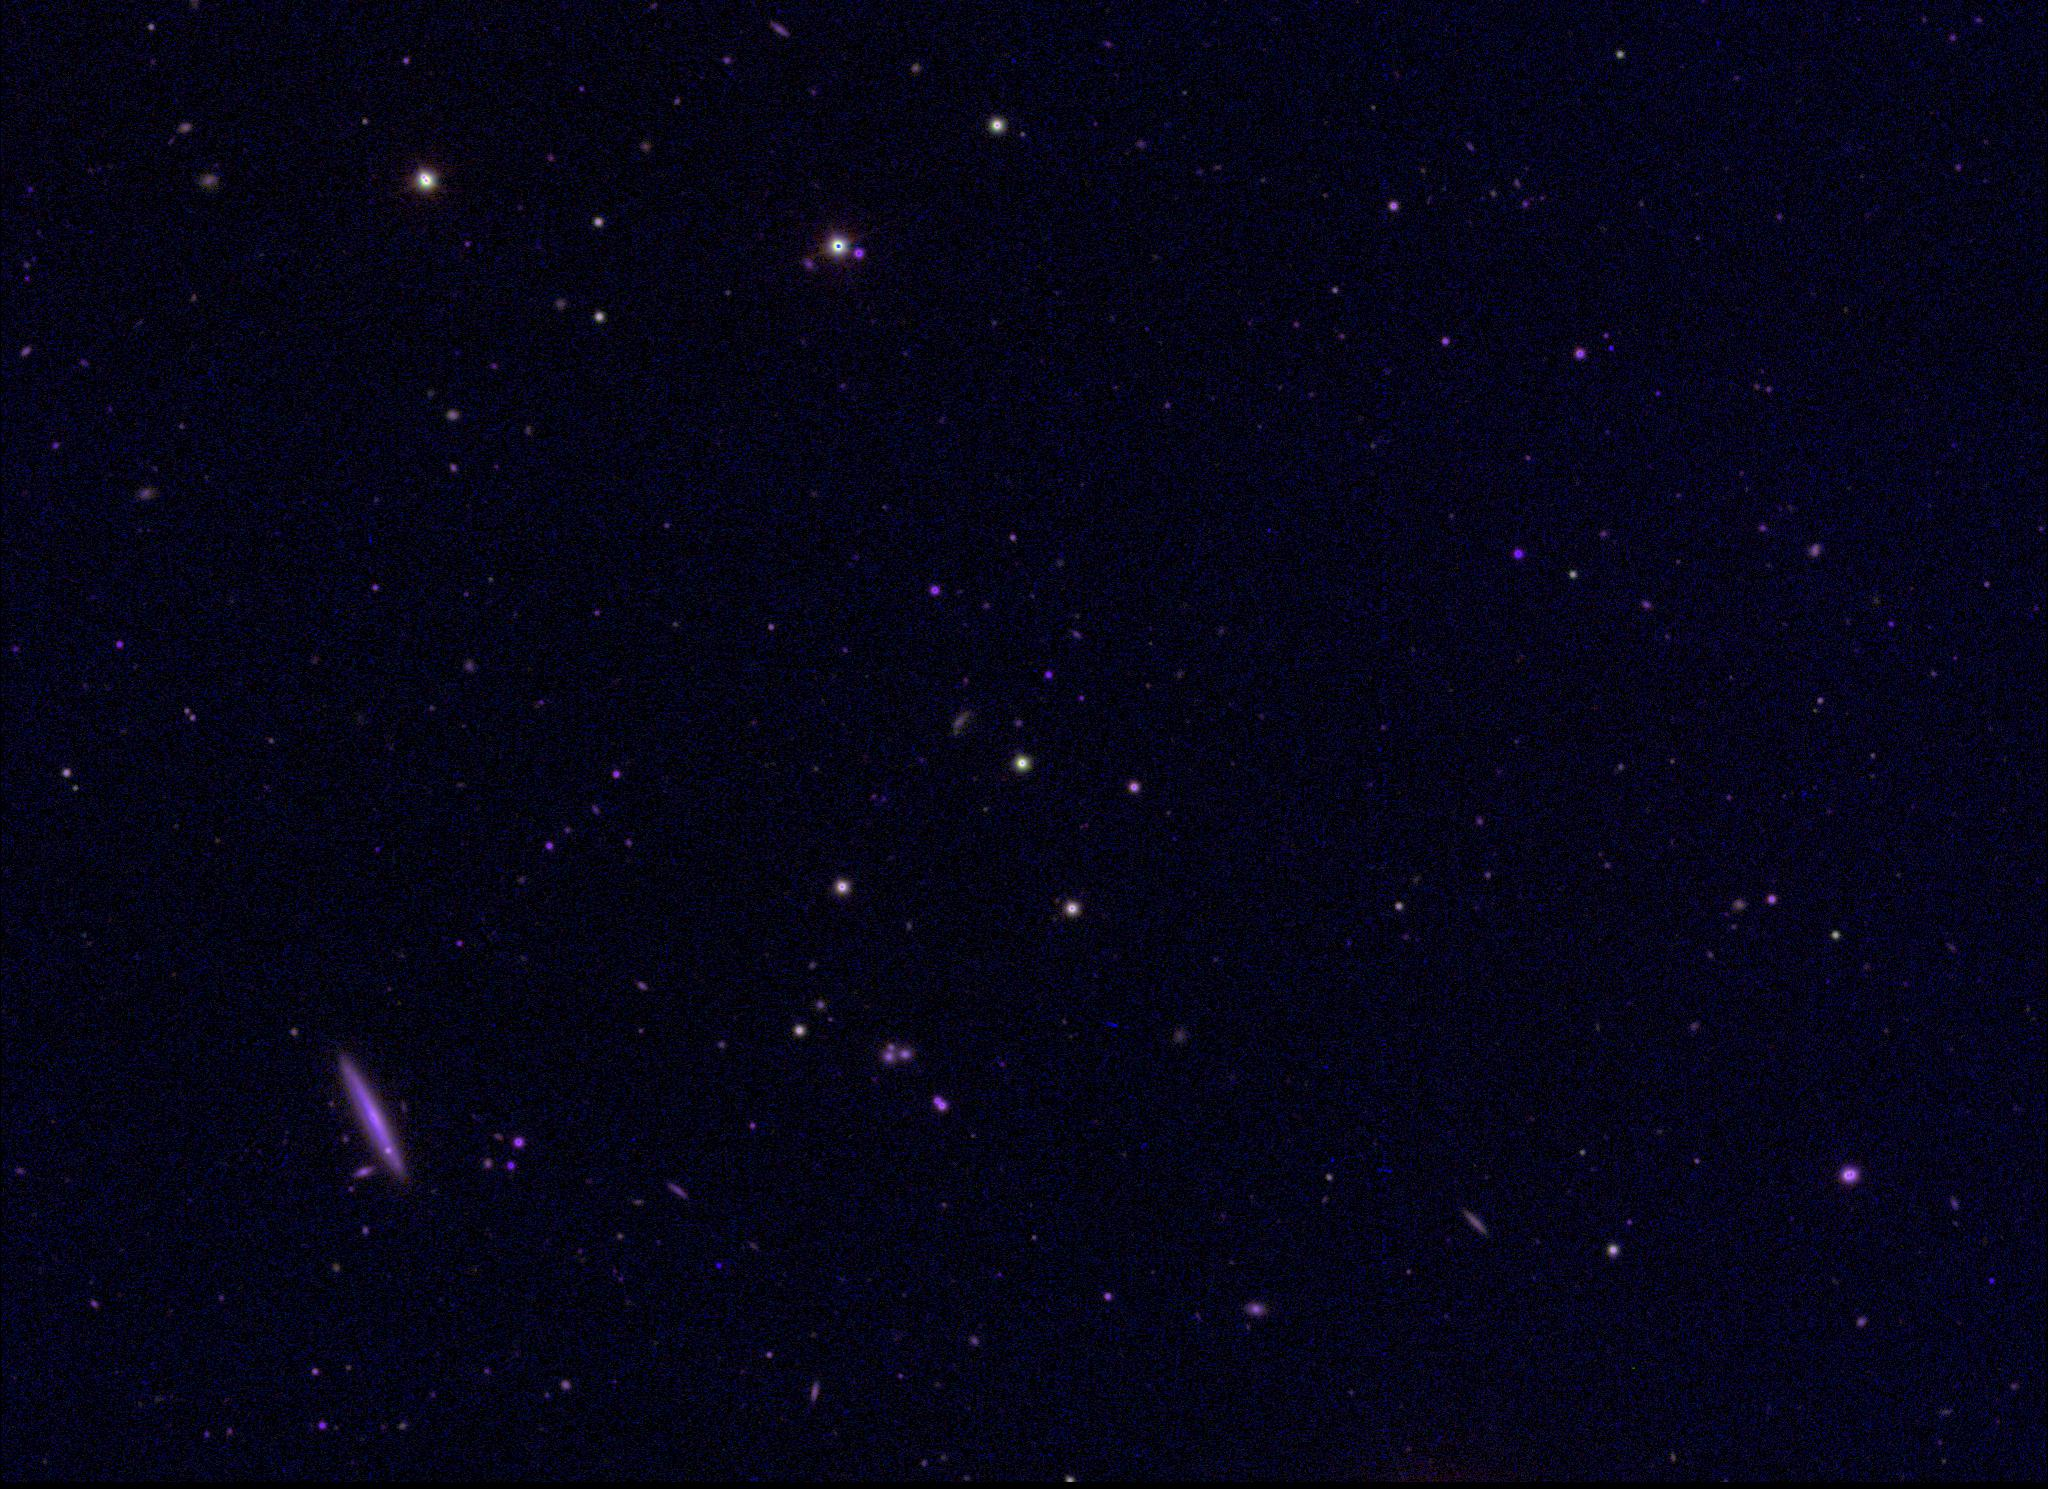L: (712, 1258, 727, 1273)
